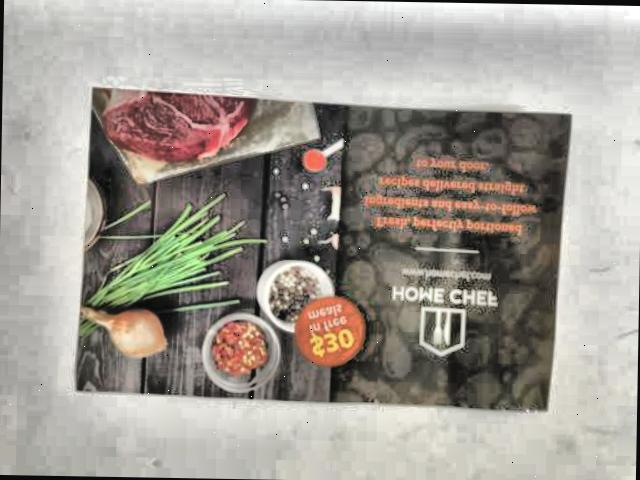Paper: (68, 89, 580, 410)
